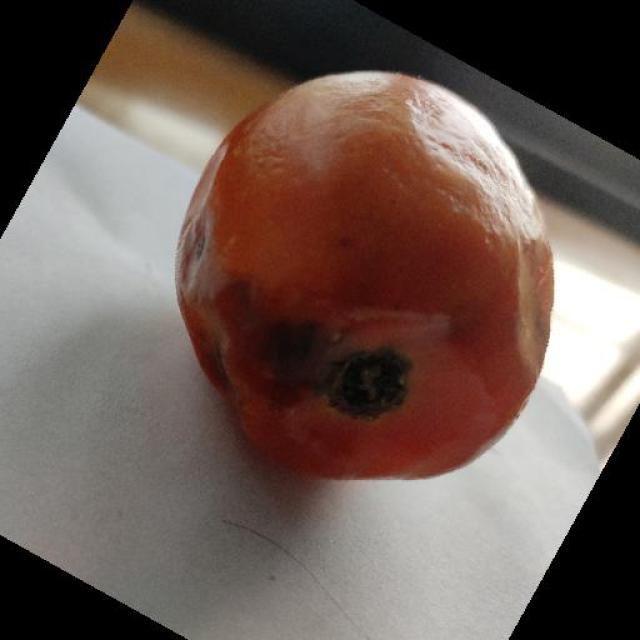Stale_tomato: (186, 212, 512, 488)
